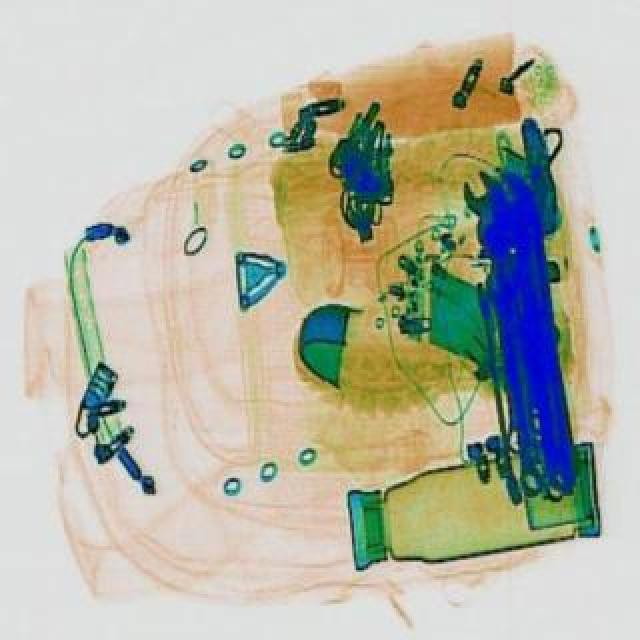wrench: (458, 166, 550, 494)
